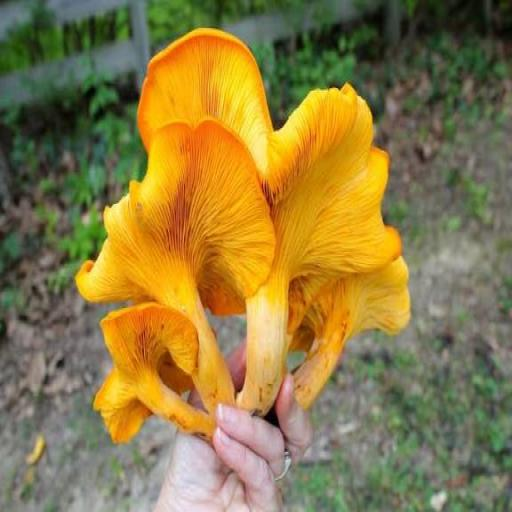Jack O Lantern Mushroom: (132, 25, 405, 429), (65, 119, 289, 421), (81, 303, 227, 470), (279, 244, 416, 420)
